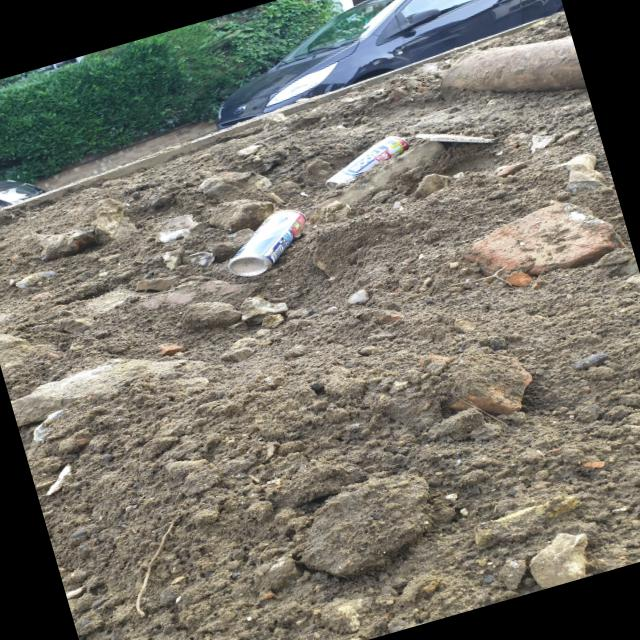less trash: (227, 209, 306, 276), (325, 135, 409, 190)
